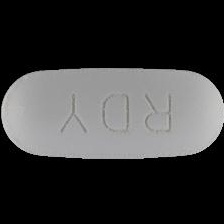52959-510: (0, 0, 224, 224)
